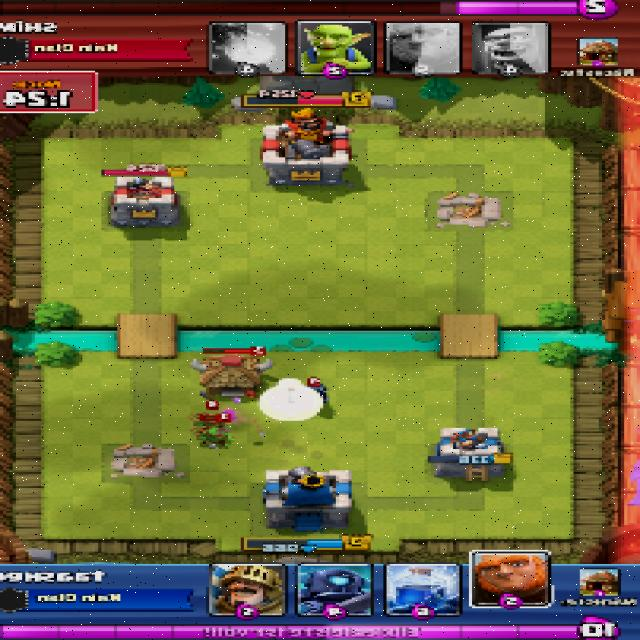Enemy-GoblinHut: (190, 354, 277, 397)
Enemy-SpearGoblin: (193, 426, 233, 447)
